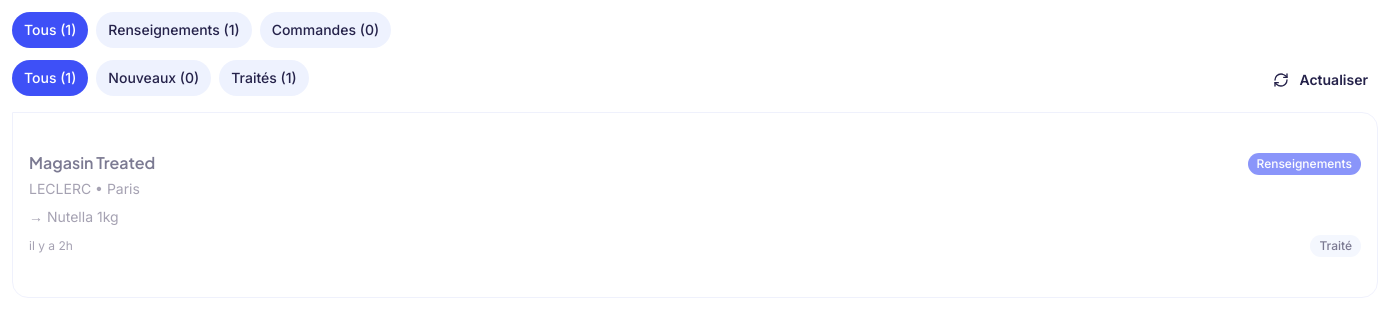
Test: SupplierRequestList › shows filtered empty state with status-specific message
The image size is (1390, 315).
Click the radio button "Nouveaux (0)".
click(154, 78)  # box [96,60,211,96]
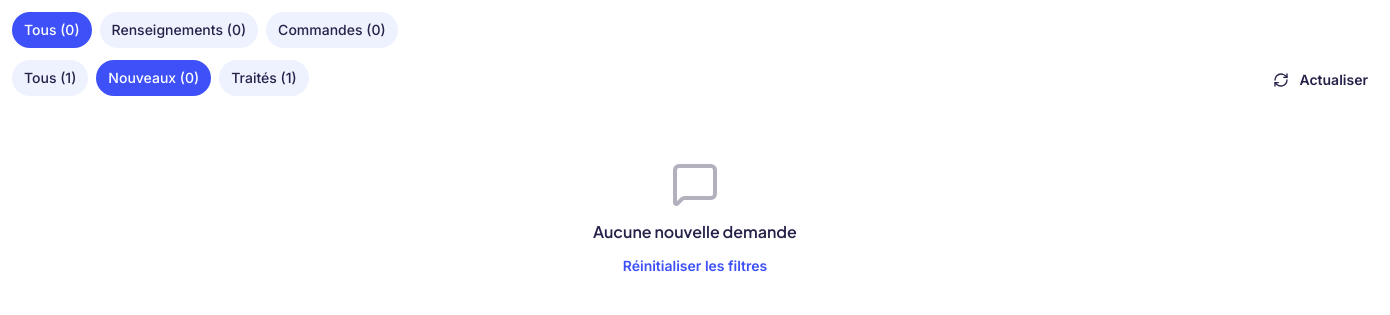
Expected: the text "Aucune nouvelle demande" is shown, [593,220,797,244]
